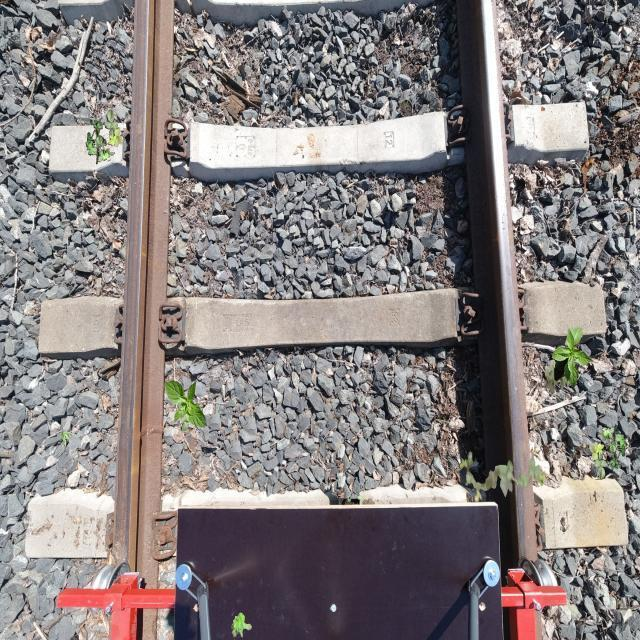Plant: (460, 451, 546, 502), (552, 327, 594, 387), (164, 379, 206, 432), (86, 110, 124, 165), (589, 425, 626, 480), (544, 362, 570, 394), (231, 613, 252, 638), (60, 431, 74, 446)
